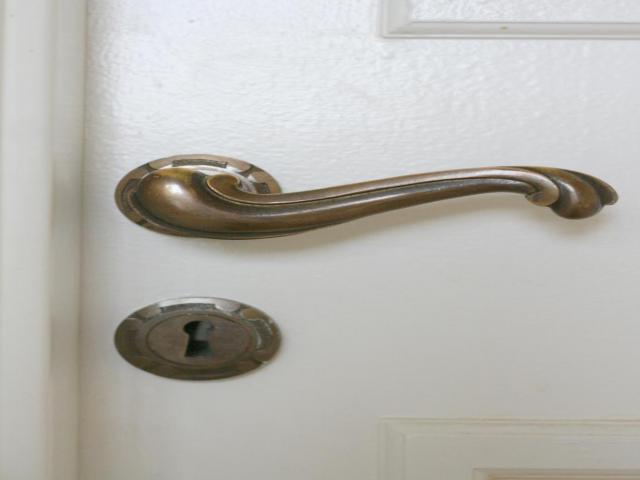Door-handle: (116, 152, 617, 239)
